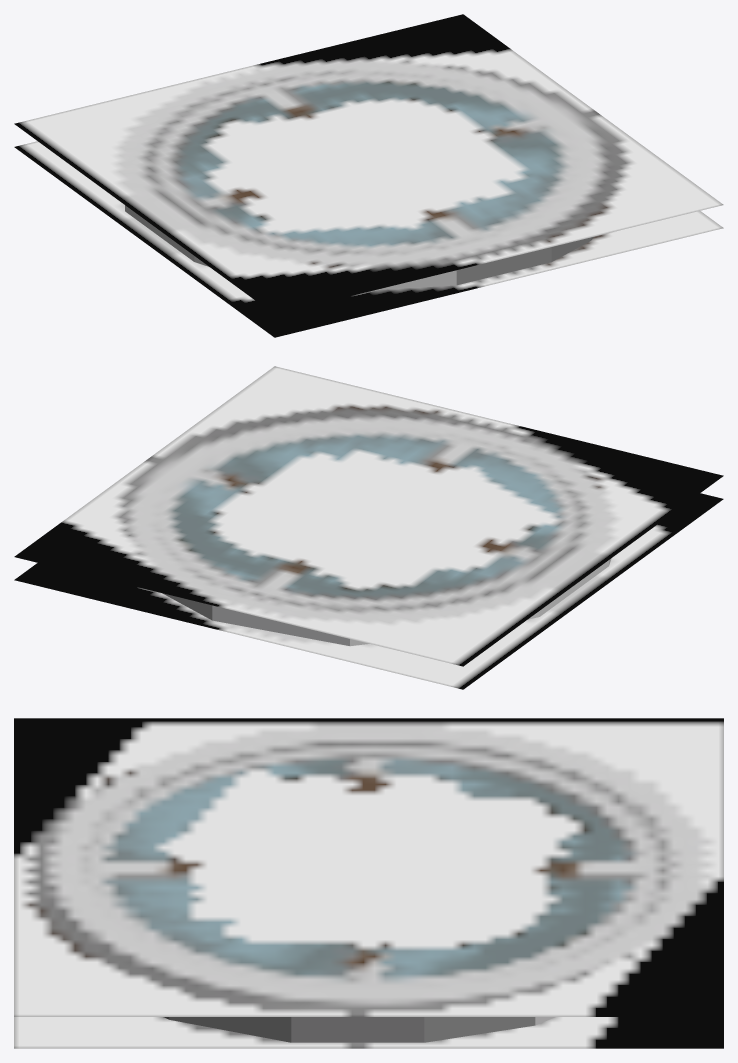
File: pz_native_fixtures_windows_white_87_frame.obj
3 views of the same model, one above another, from view 1: azimuth 30°, elevation 25°; view 2: azimuth 150°, elevation 25°; view 3: azimuth 270°, elevation 25° (orthographic). The views are drawn at different scales.
Visible parts, largest first — view 1: pz_native_fixtures_windows_white_87_frame; view 2: pz_native_fixtures_windows_white_87_frame; view 3: pz_native_fixtures_windows_white_87_frame.
Boxes of the visible parts, bbox=[...] form: pz_native_fixtures_windows_white_87_frame: bbox=[14, 14, 723, 337]; pz_native_fixtures_windows_white_87_frame: bbox=[14, 366, 723, 689]; pz_native_fixtures_windows_white_87_frame: bbox=[14, 718, 723, 1048].
Bounding box in the file's own units: 0.8125 × 0.04 × 0.8165.
1 material, 1 textured.
